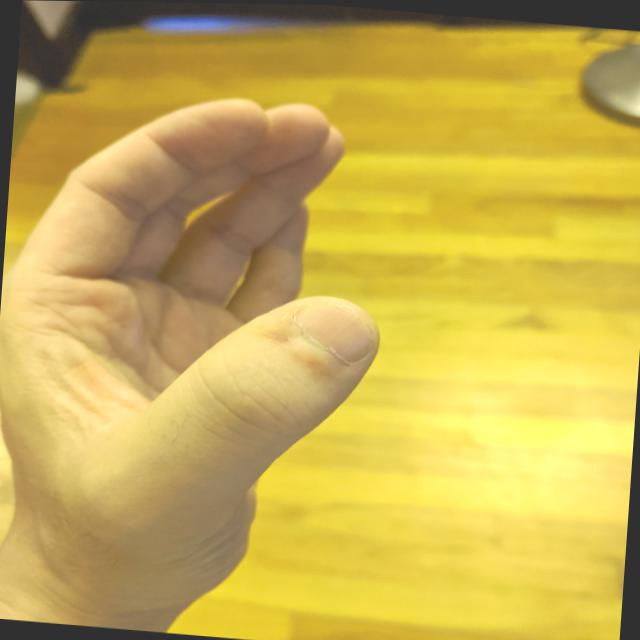C: (0, 71, 407, 620)
